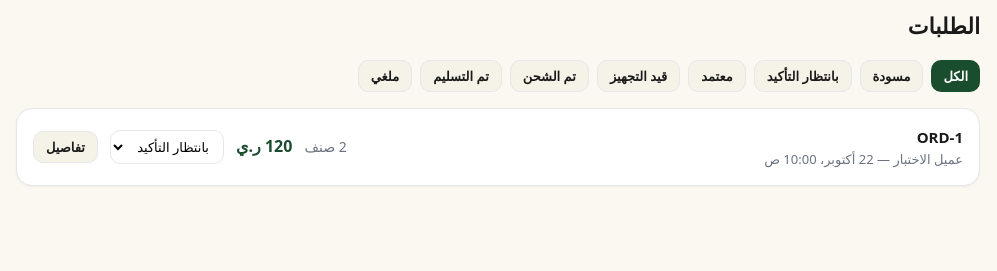
Test: admin order status transition UI › rejects a status write response for a different order row
The width and height of the screenshot is (997, 271).
Select "معتمد" in the dropdown named "حالة الطلب ORD-1" at (167, 147), box [110,130,224,164]
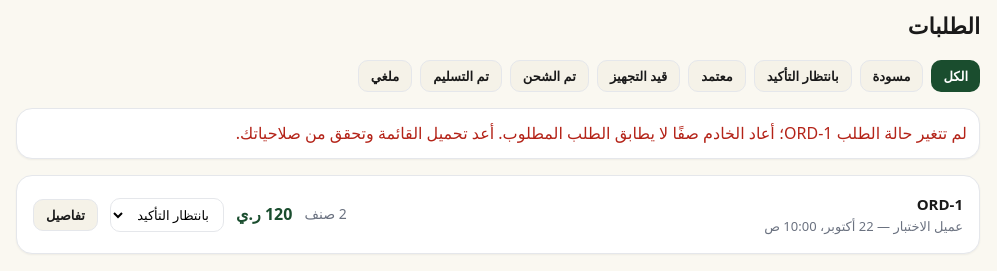
Now the message shows "صفًا لا يطابق الطلب المطلوب", box [236,122,967,144]
